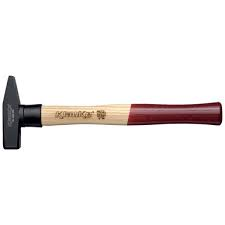hammer: (2, 74, 223, 150)
